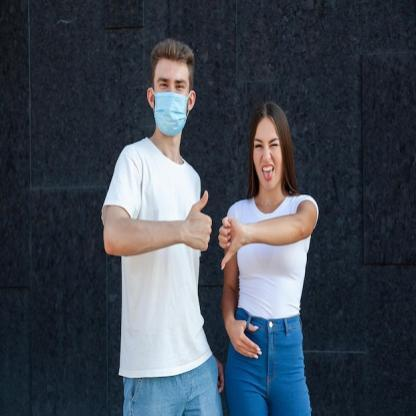thumb_down: (217, 211, 242, 273)
thumb_up: (184, 186, 214, 258)
